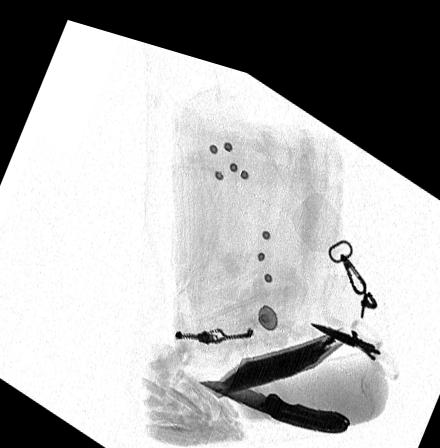Knife: (196, 363, 349, 413)
Powerbank: (207, 304, 348, 386)
Scissors: (310, 296, 397, 355)
